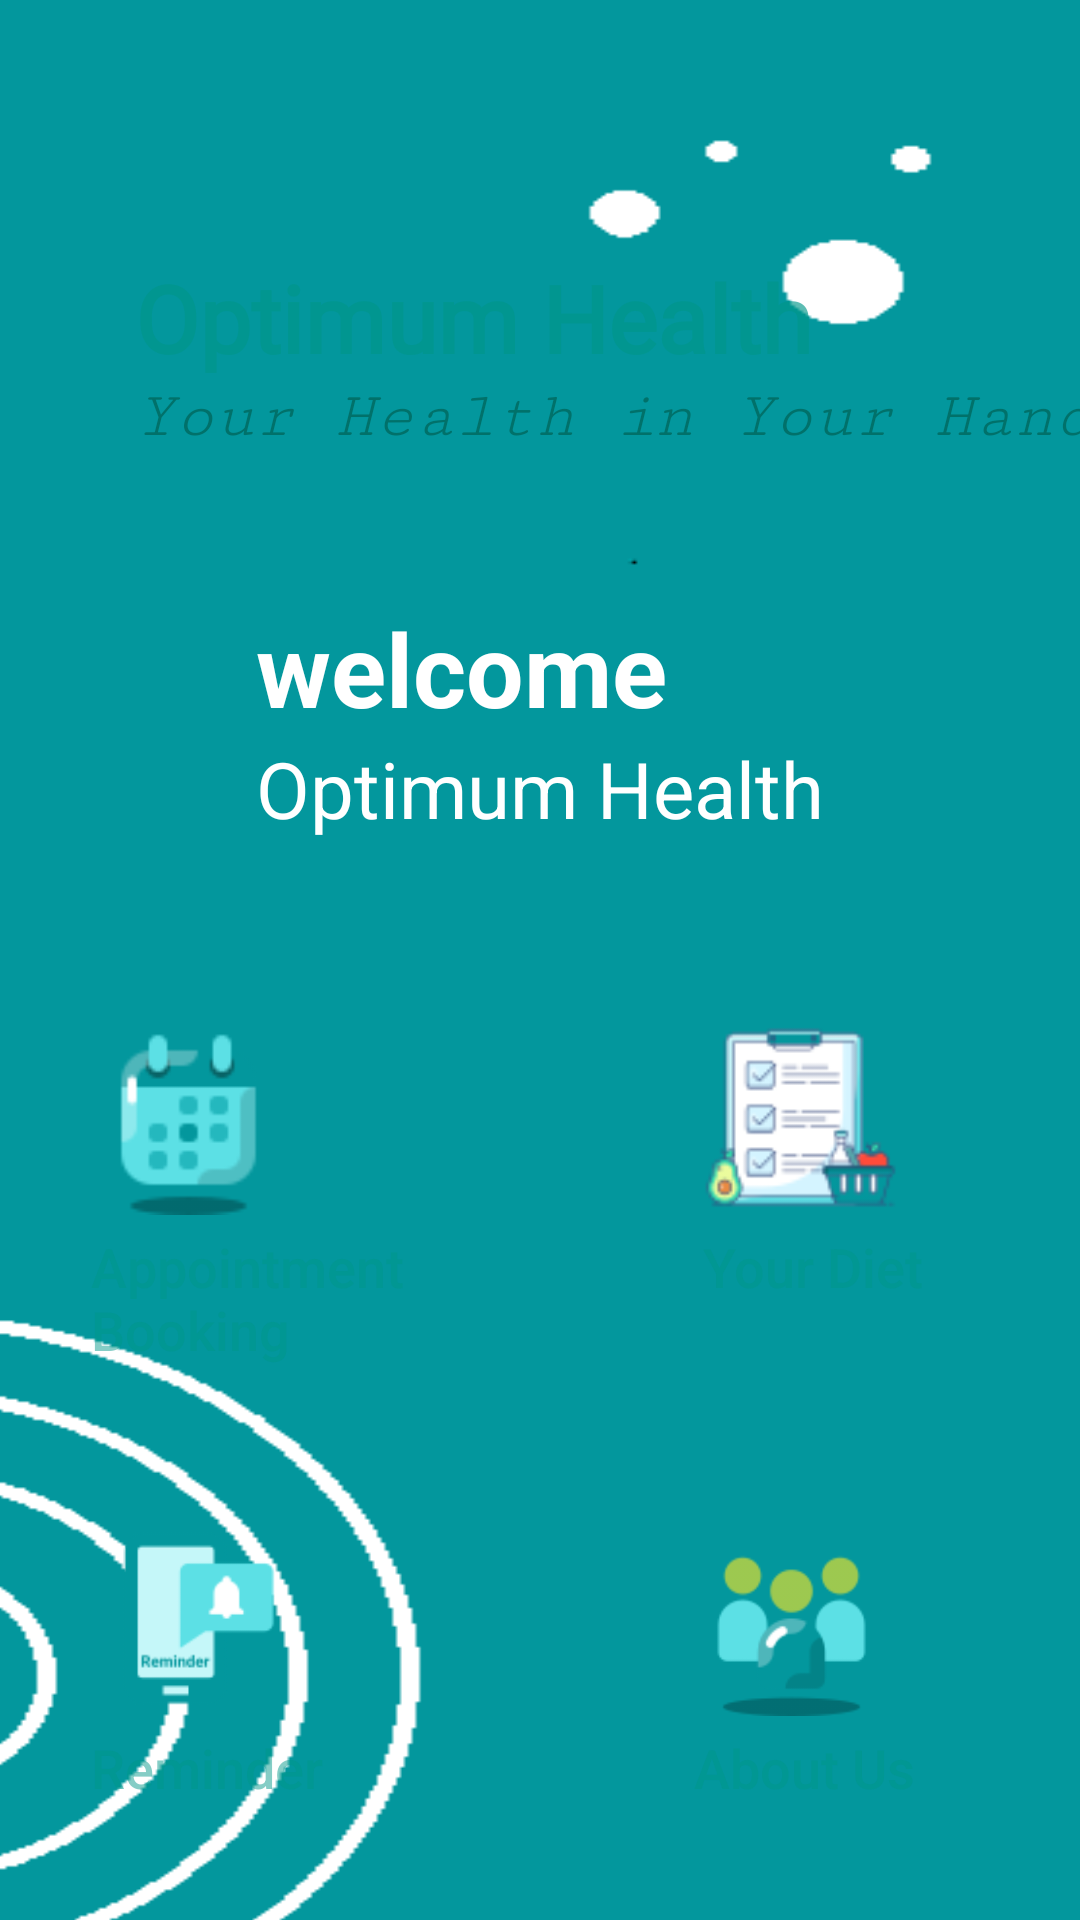

Point at icon controls on the screen. Image size 1080 x 1920, points as (x,y).
bellcon: (188,1618)
